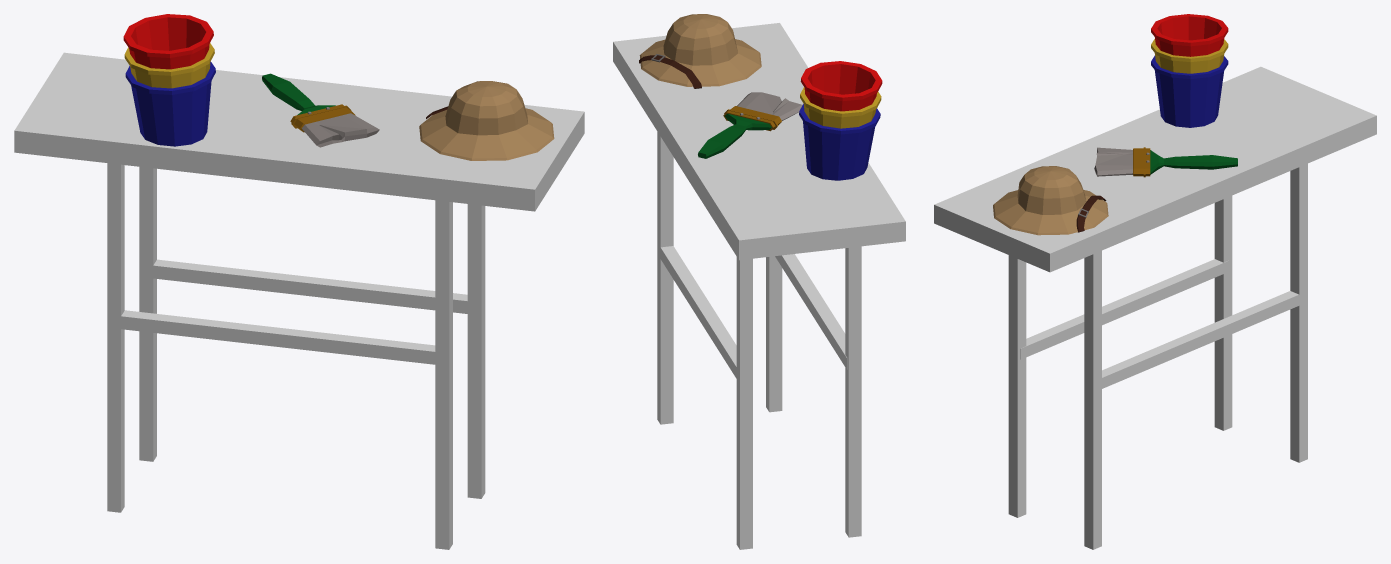
Rendered from ENV_Archaeology_FrontTable.fbx.
3 views of the same model, side by side, from view 1: azimuth 30°, elevation 25°; view 2: azimuth 150°, elevation 25°; view 3: azimuth 270°, elevation 25° (orthographic). The views are drawn at different scales.
Visible parts, largest first — view 1: ENV_table, Buckets_01, SafariHat_01, Archaeology_Brush1; view 2: ENV_table, Buckets_01, SafariHat_01, Archaeology_Brush1; view 3: ENV_table, Buckets_01, SafariHat_01, Archaeology_Brush1.
Boxes of the visible parts, x1=… form: ENV_table: x1=14, y1=52, x2=584, y2=549; Buckets_01: x1=123, y1=14, x2=215, y2=146; SafariHat_01: x1=419, y1=81, x2=554, y2=160; Archaeology_Brush1: x1=262, y1=73, x2=379, y2=147; ENV_table: x1=613, y1=23, x2=905, y2=549; Buckets_01: x1=799, y1=61, x2=882, y2=180; SafariHat_01: x1=639, y1=14, x2=761, y2=88; Archaeology_Brush1: x1=698, y1=92, x2=802, y2=158; ENV_table: x1=934, y1=66, x2=1376, y2=549; Buckets_01: x1=1151, y1=14, x2=1228, y2=127; SafariHat_01: x1=993, y1=166, x2=1108, y2=235; Archaeology_Brush1: x1=1094, y1=147, x2=1237, y2=177.
Bounding box in the file's own units: 188 × 194 × 188.
